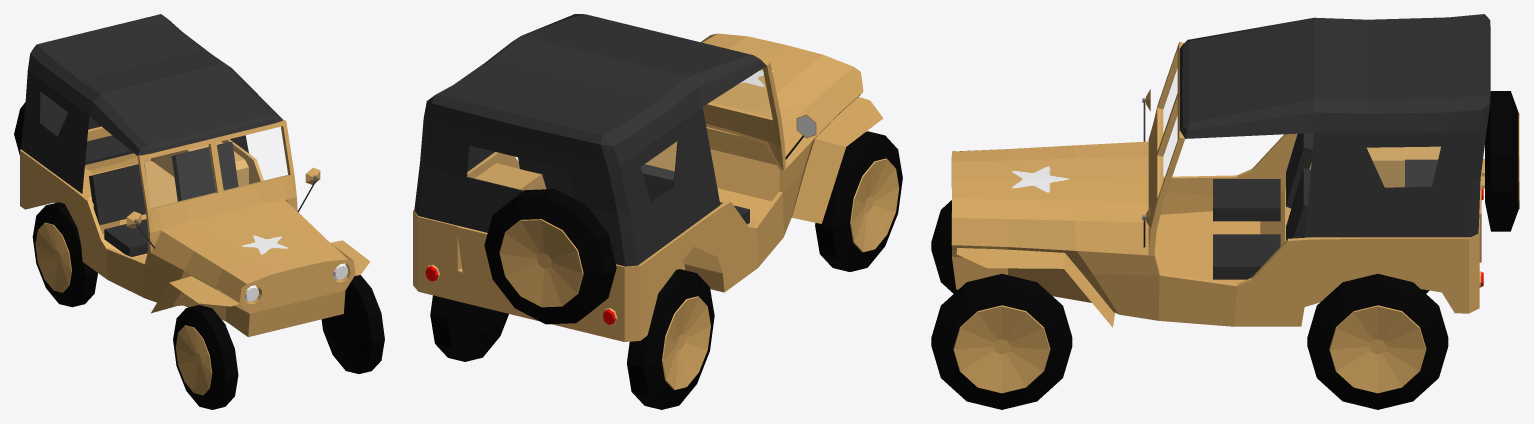
3 views of the same model, side by side, from view 1: azimuth 30°, elevation 25°; view 2: azimuth 150°, elevation 25°; view 3: azimuth 270°, elevation 25° (orthographic). The views are drawn at different scales.
Parts seen in each view (by area): view 1: Plane.016, Plane.017, Cylinder.026, Cylinder.025, Cylinder.024; view 2: Plane.016, Cylinder.028, Cylinder.026, Cylinder.025, Cylinder.027, Plane.017; view 3: Plane.016, Cylinder.027, Cylinder.024, Plane.017, Cylinder.028, Cylinder.026.
Boxes of the visible parts, <box> form: Plane.016: <box>20,14,370,337</box>; Plane.017: <box>84,126,238,256</box>; Cylinder.026: <box>173,305,238,409</box>; Cylinder.025: <box>32,202,97,307</box>; Cylinder.024: <box>321,275,384,373</box>; Plane.016: <box>413,14,883,341</box>; Cylinder.028: <box>484,189,616,324</box>; Cylinder.026: <box>815,131,902,271</box>; Cylinder.025: <box>627,269,714,409</box>; Cylinder.027: <box>430,295,508,361</box>; Plane.017: <box>456,157,749,289</box>; Plane.016: <box>951,14,1490,327</box>; Cylinder.027: <box>1307,273,1448,409</box>; Cylinder.024: <box>931,273,1072,409</box>; Plane.017: <box>1213,133,1484,279</box>; Cylinder.028: <box>1485,91,1519,231</box>; Cylinder.026: <box>931,200,957,293</box>.
Bounding box in the file's own units: 140 × 156 × 275.
